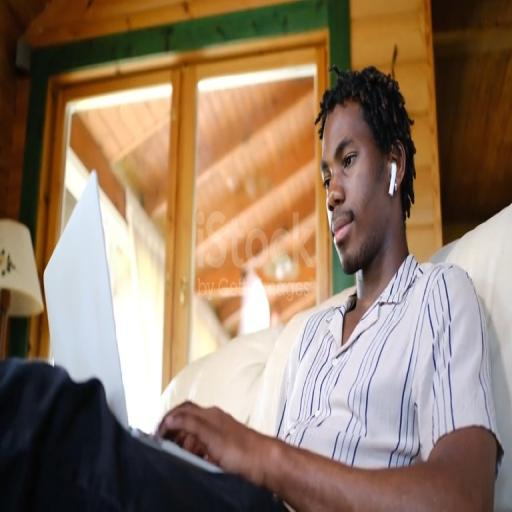earphone: (384, 161, 400, 201)
